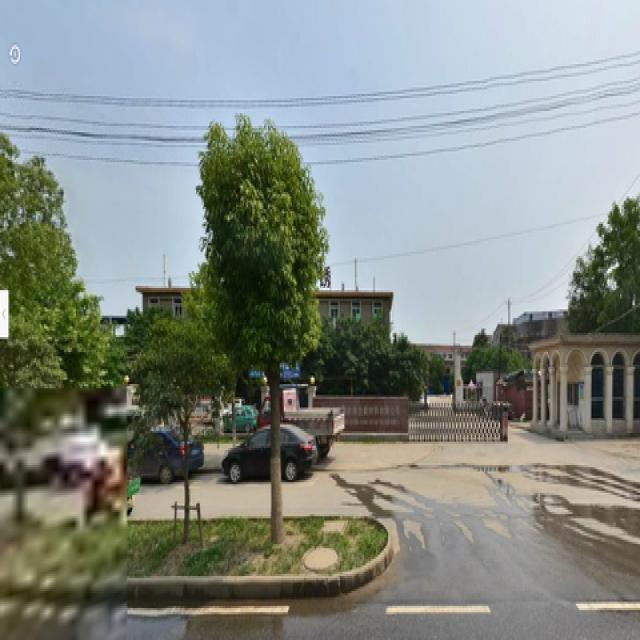cinn: (200, 111, 321, 544)
